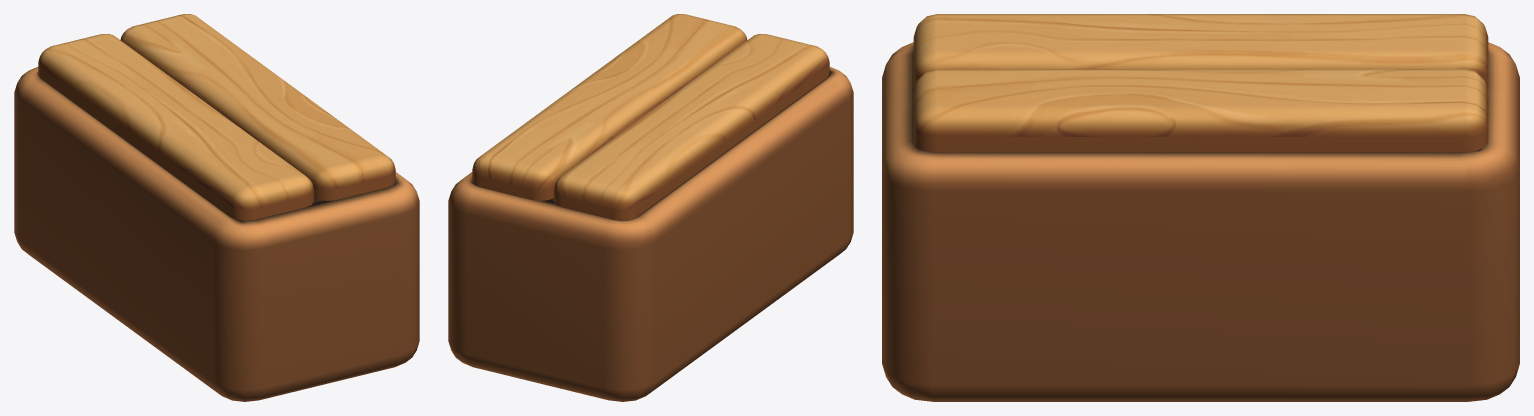
Rendered from WoodenBox_1x2.fbx.
3 views of the same model, side by side, from view 1: azimuth 30°, elevation 25°; view 2: azimuth 150°, elevation 25°; view 3: azimuth 270°, elevation 25° (orthographic). The views are drawn at different scales.
Visible parts, largest first — view 1: box1x2; view 2: box1x2; view 3: box1x2.
Part boxes in pixels (x1,y1,x2,y2): box1x2: (14,14,419,401); box1x2: (448,14,853,401); box1x2: (882,14,1519,401).
Size of the model in its own units: 1.02 by 0.9929 by 2.03.
